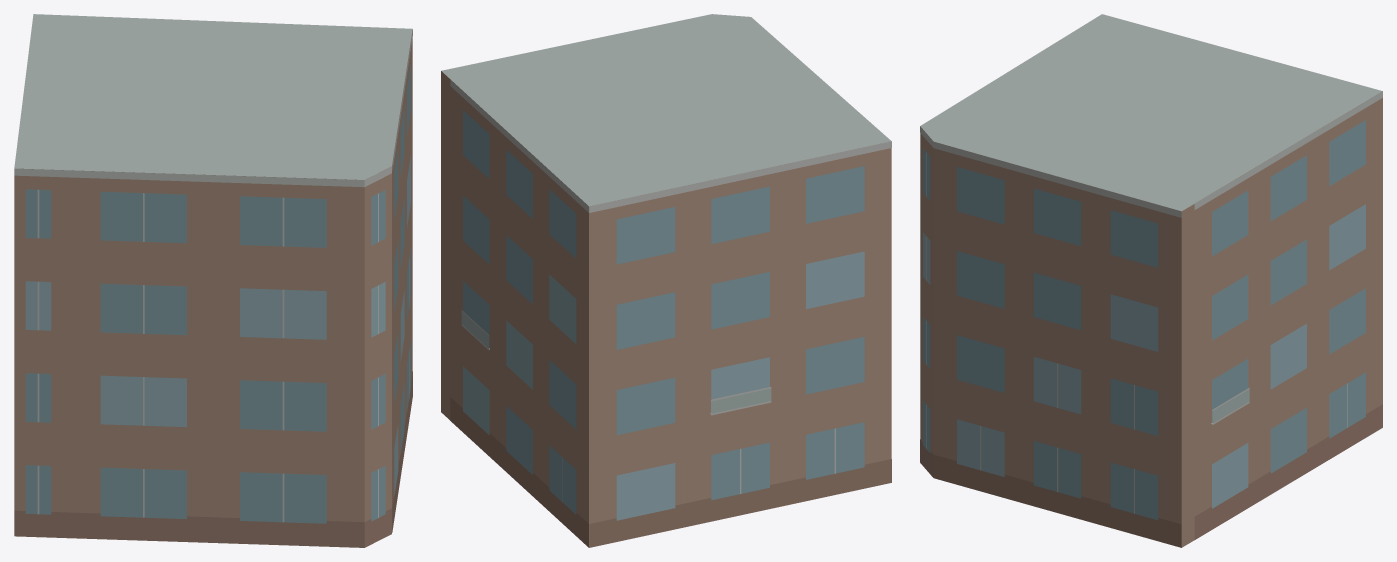
The model's file is survey-upis-32780072.glb.
The picture shows the model from 3 angles, left to right: view 1: azimuth 30°, elevation 25°; view 2: azimuth 150°, elevation 25°; view 3: azimuth 270°, elevation 25°; orthographic projection. The views are drawn at different scales.
Visible parts, largest first — view 1: survey-upis-32780072.tmp; view 2: survey-upis-32780072.tmp; view 3: survey-upis-32780072.tmp.
Part boxes in pixels (x1=…): survey-upis-32780072.tmp: x1=14, y1=14, x2=412, y2=547; survey-upis-32780072.tmp: x1=441, y1=14, x2=891, y2=547; survey-upis-32780072.tmp: x1=920, y1=14, x2=1382, y2=547.
Size of the model in its own units: 15.7 by 12.48 by 15.56.
